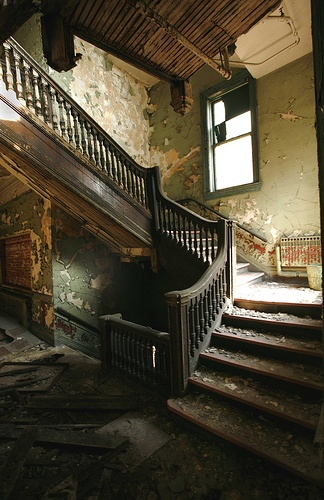stairs_up: (169, 301, 324, 483)
